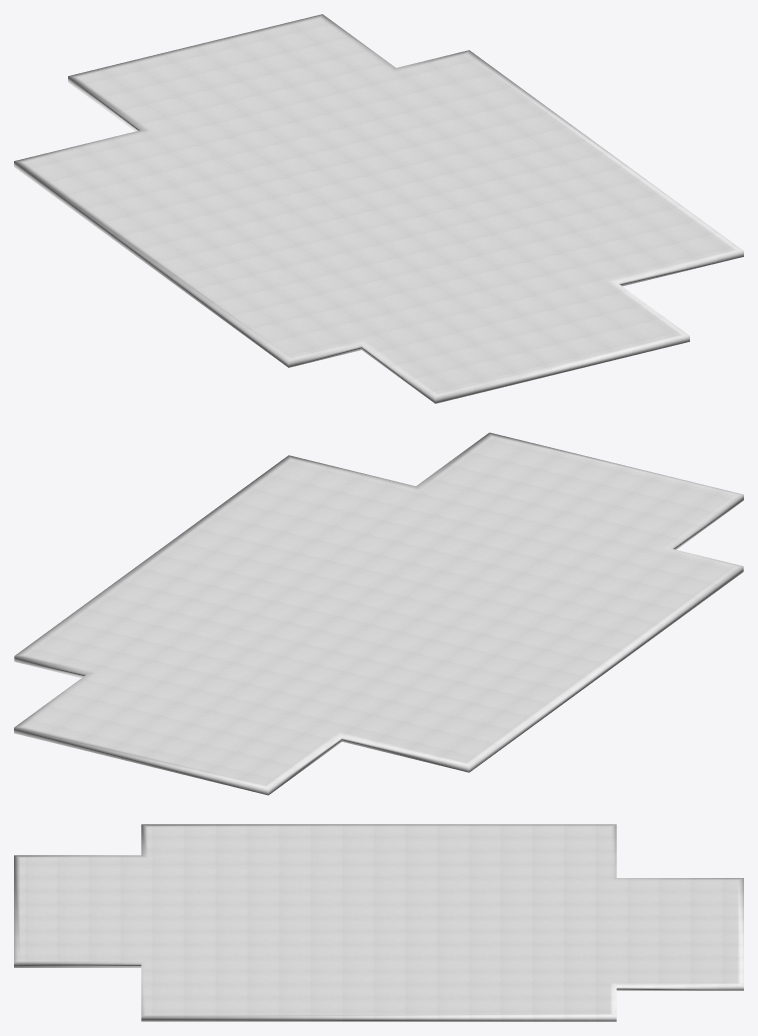
Rendered from roof.glb.
3 renders of one model, top to bottom at view 1: azimuth 30°, elevation 25°; view 2: azimuth 150°, elevation 25°; view 3: azimuth 270°, elevation 25°, orthographic. The views are drawn at different scales.
Parts seen in each view (by area): view 1: кРЫША; view 2: кРЫША; view 3: кРЫША.
Part boxes in pixels (x1,y1,x2,y2): кРЫША: [14, 14, 743, 403]; кРЫША: [14, 432, 743, 795]; кРЫША: [14, 824, 743, 1021].
Size of the model in its own units: 53.62 by 0.6454 by 86.
1 material, 1 textured.
